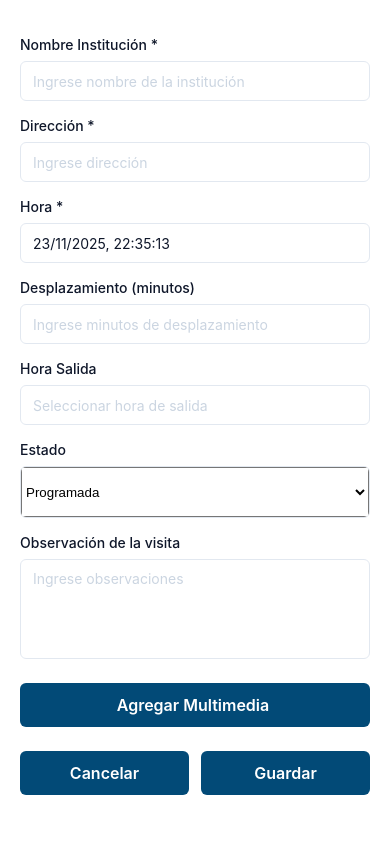
it: VisitForm - Multimedia Upload › permite eliminar archivos adjuntos
// Add photo
What coordinates should you click on to do the following:
click the text "Agregar Multimedia"
I would click on:
 (195, 705)
Its box is top-left (117, 695), bottom-right (273, 715).
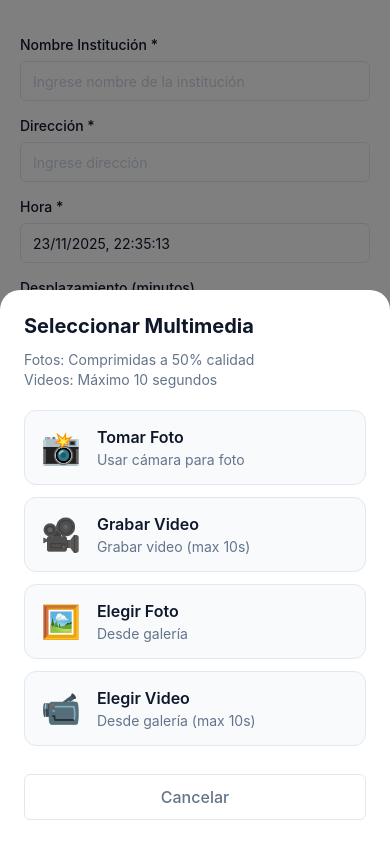
What coordinates should you click on to do the following:
click the text "Tomar Foto"
I would click on:
 (140, 437)
Its box is top-left (97, 427), bottom-right (184, 447).
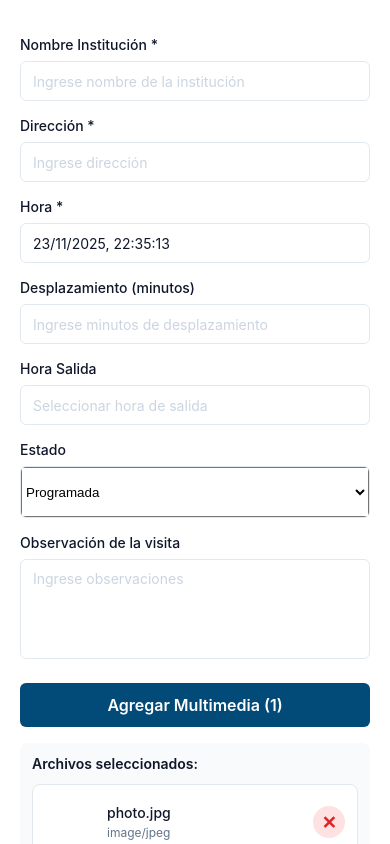
Now the text "photo.jpg" is shown, box top-left (107, 804), bottom-right (171, 821)
// Find and press remove button (✕)
What coordinates should you click on to do the following:
click the text "✕"
I would click on:
 (329, 822)
Its box is top-left (322, 812), bottom-right (337, 832).
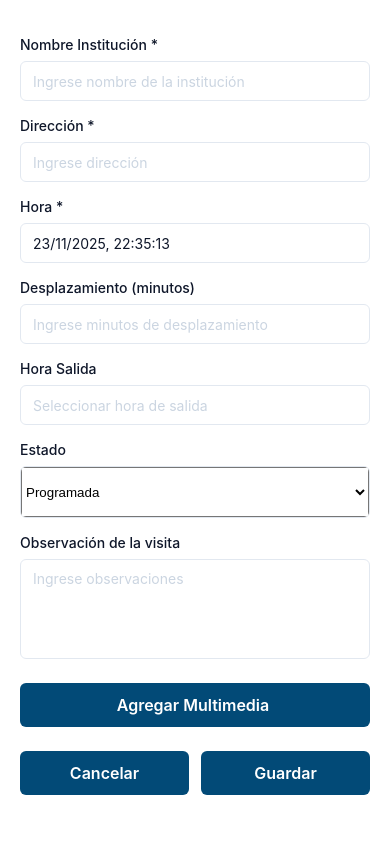
Now the text "photo.jpg" is gone
